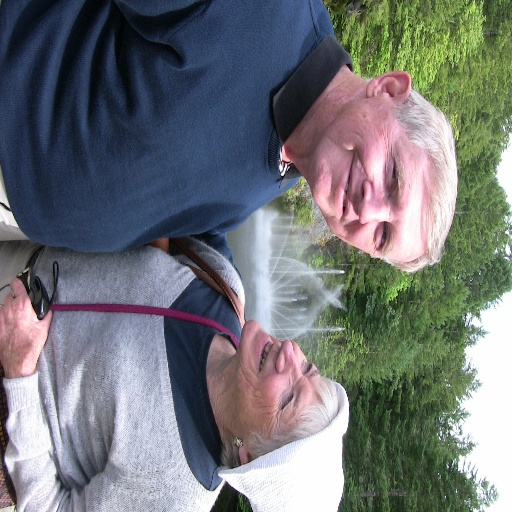hand: (2, 261, 47, 397)
